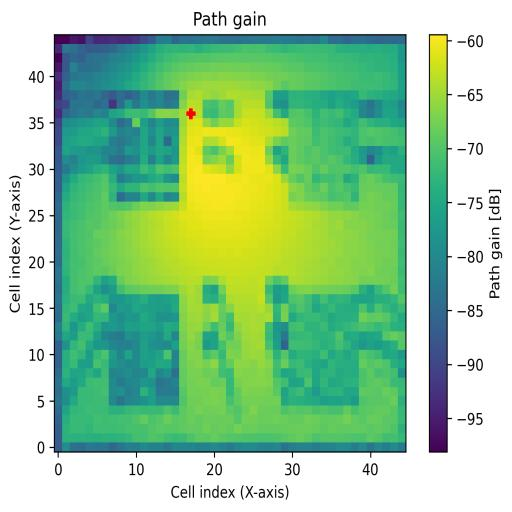Concrete: (289, 91, 359, 202)
Glass: (108, 90, 181, 201)
Metal: (289, 285, 359, 405)
Wood: (108, 294, 179, 407)
